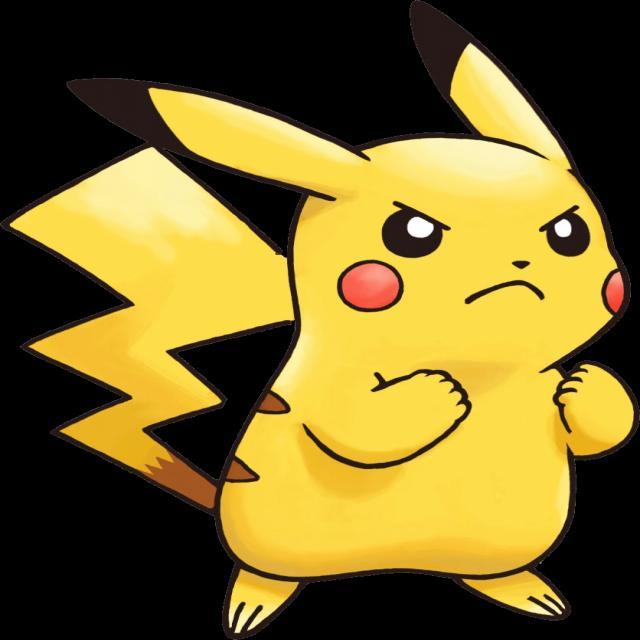Pikachu: (0, 8, 634, 640)
